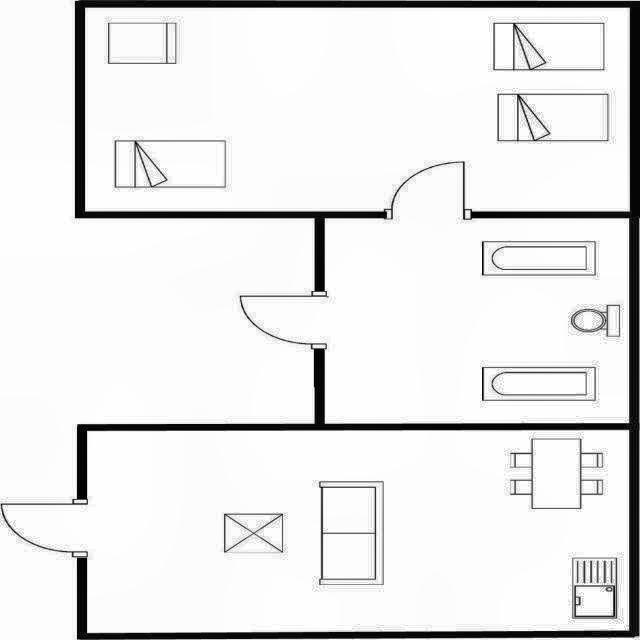room: (85, 7, 630, 212), (85, 429, 631, 633), (325, 217, 629, 423)
